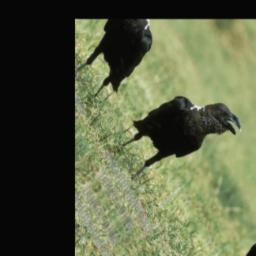Crow: (106, 54, 248, 217)
